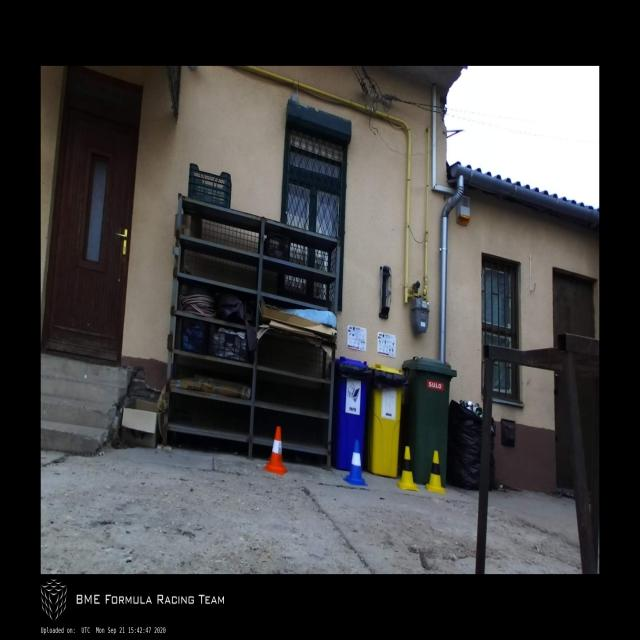blue_cone: (342, 441, 368, 486)
orange_cone: (264, 426, 288, 476)
yellow_cone: (396, 447, 418, 492), (424, 449, 445, 492)
